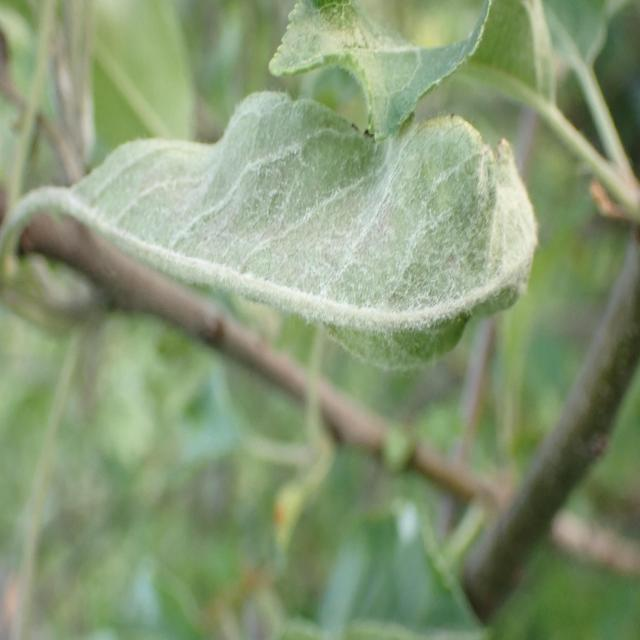Powdery_mildew: (31, 89, 550, 376)
